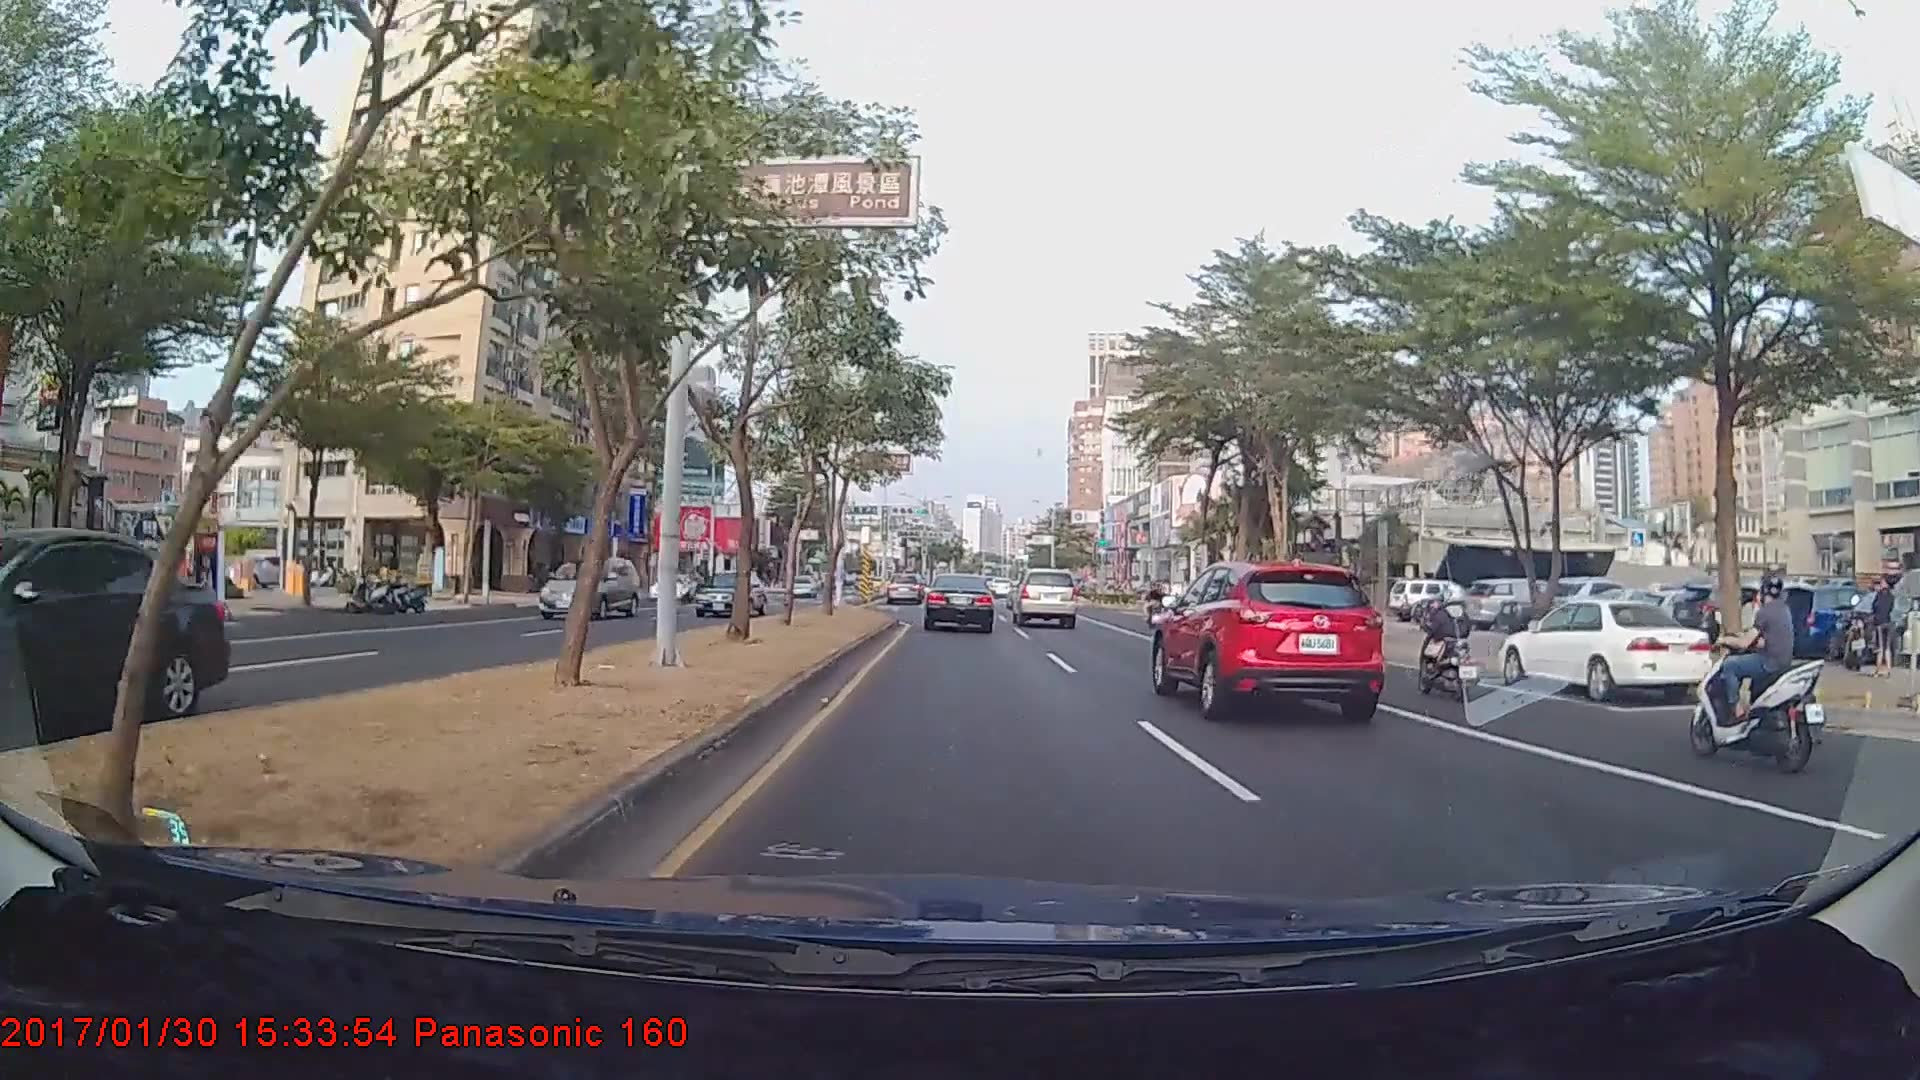pedestrian: (1867, 576, 1896, 676)
rider: (1685, 555, 1836, 777), (1404, 581, 1487, 704)
vehicle: (0, 539, 230, 744), (1149, 560, 1386, 727), (1497, 597, 1718, 702), (536, 554, 641, 620), (923, 573, 995, 633), (1010, 568, 1078, 628), (691, 567, 764, 617), (650, 571, 700, 601), (886, 572, 926, 606), (786, 576, 816, 600)
